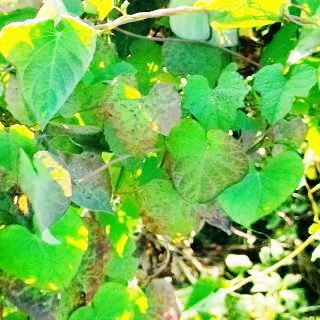leaf spot: (161, 91, 255, 223), (98, 73, 186, 180)
